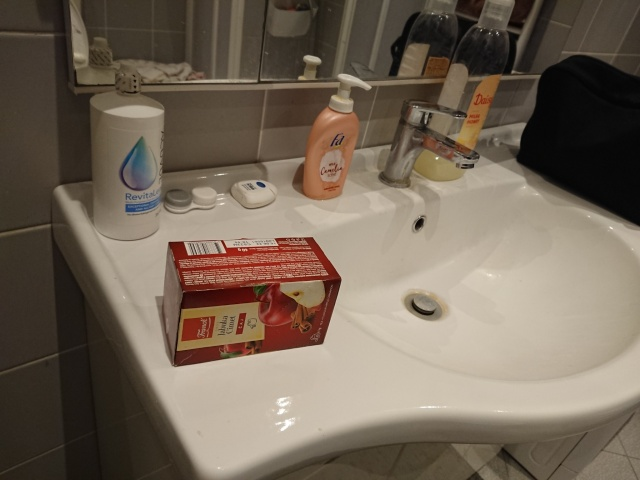Franck Apple Cinnamon Tea 60g: (157, 233, 344, 370)
